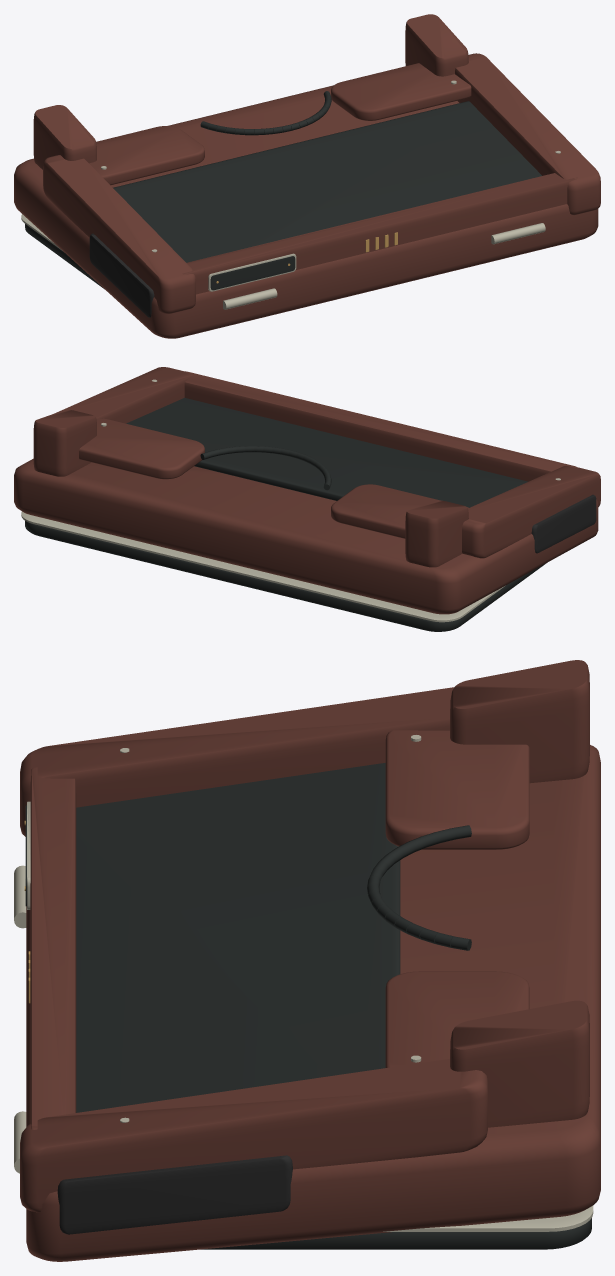
File: Continental.glb
The picture shows the model from 3 angles, top to bottom: view 1: azimuth 30°, elevation 25°; view 2: azimuth 150°, elevation 25°; view 3: azimuth 270°, elevation 25°; orthographic projection. The views are drawn at different scales.
Parts seen in each view (by area): view 1: Keyboard well, Cast chassis, Enamel cheek (×2), Front fascia, Spool platform (×2), Carriage bearing (×2), Travel bumper, Maker plate, Carry handle (×2), Rolled lower pan, Badge surround; view 2: Cast chassis, Keyboard well, Enamel cheek (×2), Front fascia, Spool platform (×2), Carriage bearing (×2), Rolled lower pan, Chassis parting seam, Travel bumper; view 3: Keyboard well, Cast chassis, Enamel cheek (×2), Carriage bearing (×2), Spool platform (×2), Front fascia, Travel bumper, Rolled lower pan, Chassis parting seam.
Boxes of the visible parts, x1=… form: Keyboard well: x1=113, y1=101, x2=541, y2=262; Cast chassis: x1=14, y1=85, x2=598, y2=338; Enamel cheek (×2): x1=43, y1=53, x2=600, y2=313; Front fascia: x1=182, y1=173, x2=578, y2=294; Spool platform (×2): x1=89, y1=63, x2=471, y2=185; Carriage bearing (×2): x1=33, y1=14, x2=468, y2=169; Travel bumper: x1=89, y1=233, x2=154, y2=317; Maker plate: x1=210, y1=256, x2=295, y2=290; Carry handle (×2): x1=223, y1=223, x2=545, y2=309; Rolled lower pan: x1=25, y1=224, x2=104, y2=289; Badge surround: x1=208, y1=253, x2=296, y2=291; Cast chassis: x1=14, y1=458, x2=598, y2=614; Keyboard well: x1=126, y1=397, x2=527, y2=507; Enamel cheek (×2): x1=56, y1=367, x2=600, y2=558; Front fascia: x1=182, y1=371, x2=578, y2=481; Spool platform (×2): x1=79, y1=418, x2=468, y2=538; Carriage bearing (×2): x1=33, y1=410, x2=468, y2=567; Rolled lower pan: x1=25, y1=521, x2=546, y2=631; Chassis parting seam: x1=21, y1=511, x2=505, y2=622; Travel bumper: x1=531, y1=494, x2=596, y2=553; Keyboard well: x1=76, y1=763, x2=400, y2=1112; Cast chassis: x1=26, y1=745, x2=600, y2=1261; Enamel cheek (×2): x1=20, y1=687, x2=487, y2=1212; Carriage bearing (×2): x1=450, y1=660, x2=589, y2=1127; Spool platform (×2): x1=385, y1=730, x2=529, y2=1067; Front fascia: x1=30, y1=767, x2=76, y2=1129; Travel bumper: x1=57, y1=1155, x2=292, y2=1234; Rolled lower pan: x1=201, y1=1218, x2=591, y2=1249; Chassis parting seam: x1=383, y1=1205, x2=593, y2=1231.
Size of the model in its own units: 7 by 1.81 by 4.24.
